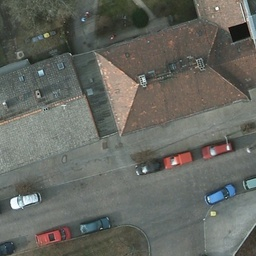car: (9, 190, 42, 211), (80, 215, 111, 236), (35, 228, 69, 247), (200, 140, 232, 159), (206, 185, 236, 203), (164, 150, 193, 167), (135, 157, 162, 172)
